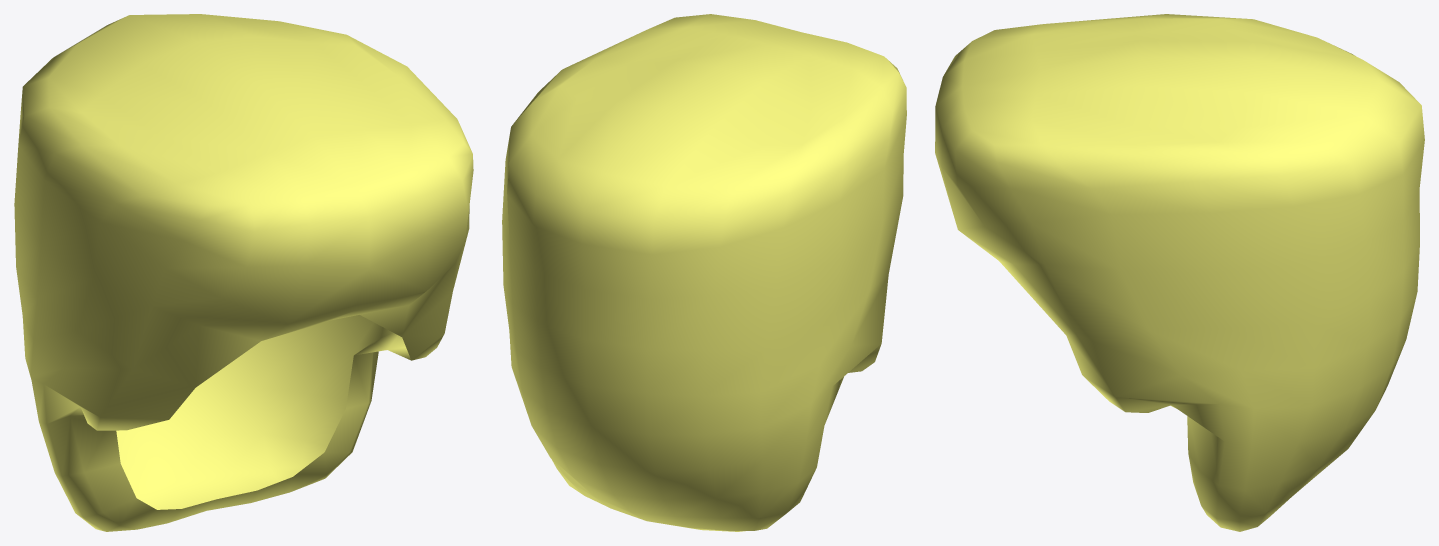
The model's file is NPC_BlondeHair3.gltf.
3 renders of one model, left to right at view 1: azimuth 30°, elevation 25°; view 2: azimuth 150°, elevation 25°; view 3: azimuth 270°, elevation 25°, orthographic. The views are drawn at different scales.
Parts seen in each view (by area): view 1: NPC_BlondeHair.004; view 2: NPC_BlondeHair.004; view 3: NPC_BlondeHair.004.
Boxes of the visible parts, x1,y1,x2,y2 form: NPC_BlondeHair.004: (14, 14, 473, 531); NPC_BlondeHair.004: (502, 14, 906, 531); NPC_BlondeHair.004: (935, 14, 1424, 531).
Size of the model in its own units: 0.517 by 0.6477 by 0.6599.
1 material, 1 textured.
